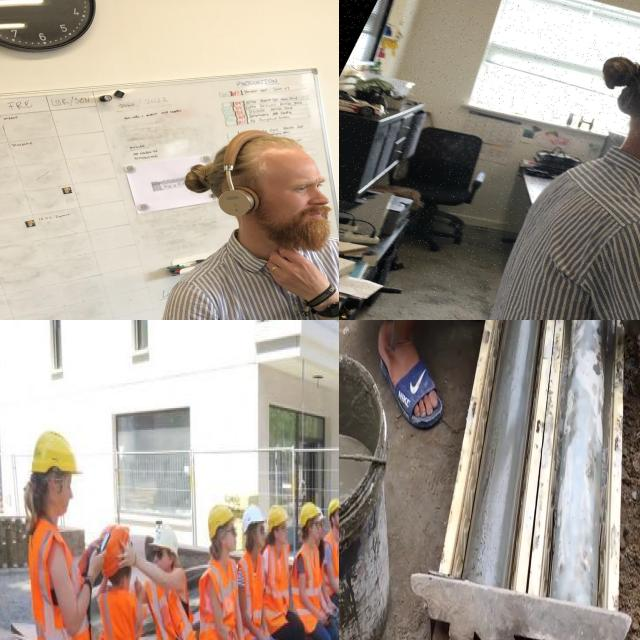Ear-protection: (208, 125, 339, 259), (585, 27, 640, 206)
No_Glasses: (274, 165, 328, 204)
Sandals: (377, 320, 441, 429)
face_nomask: (56, 471, 76, 518), (223, 522, 240, 552), (275, 516, 289, 546), (253, 521, 266, 551), (307, 514, 319, 542), (331, 508, 339, 527)
hand_noglove: (118, 538, 138, 574), (90, 550, 107, 586), (316, 604, 326, 628), (260, 629, 271, 640)
head_helmet: (33, 426, 80, 476), (98, 522, 130, 576), (147, 515, 184, 557), (203, 504, 239, 538), (242, 504, 264, 534), (298, 499, 318, 524), (270, 506, 290, 530), (327, 492, 339, 513)
person: (30, 430, 95, 640), (142, 530, 214, 640), (97, 532, 159, 640), (202, 502, 246, 640), (296, 499, 325, 640), (270, 500, 294, 640), (246, 508, 269, 640), (325, 494, 339, 624), (0, 508, 9, 604)
vest: (33, 530, 87, 640), (148, 577, 198, 640), (202, 566, 237, 640), (294, 538, 323, 626), (97, 588, 141, 640), (243, 548, 264, 629), (269, 551, 286, 624), (327, 535, 339, 582)
